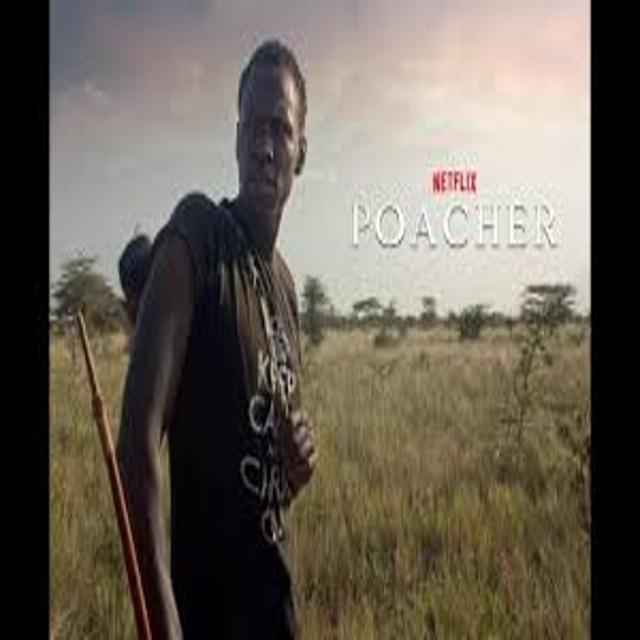poacher: (58, 24, 366, 634)
